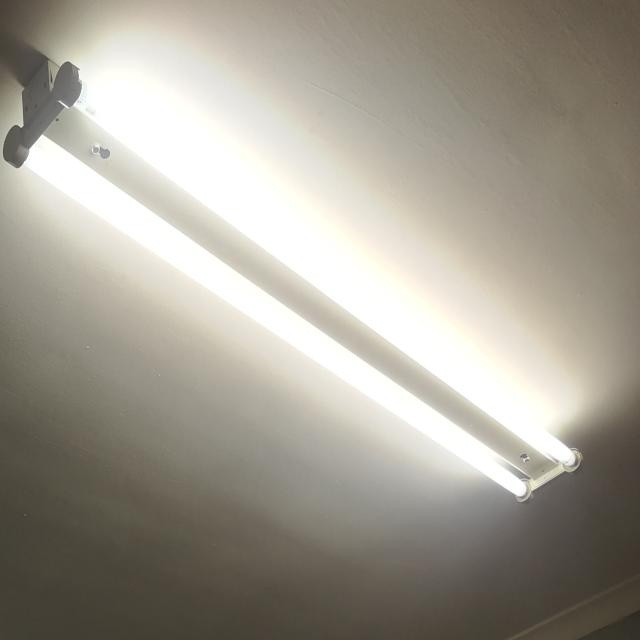fluorescent tube: (0, 41, 591, 542)
